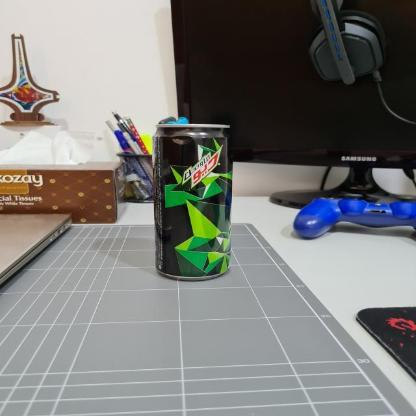Can: (151, 118, 233, 282)
